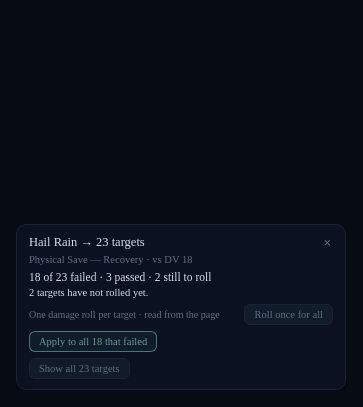
VttResolutionCard with many targets on one card › keeps the rows folded away until the Curator asks for them
Click the button "Show all 23 targets".
click(79, 368)  # box [29,358,130,379]
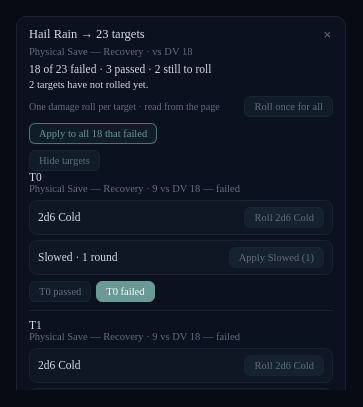
Expected: the button "T0 failed" is shown, [96,281,154,302]
